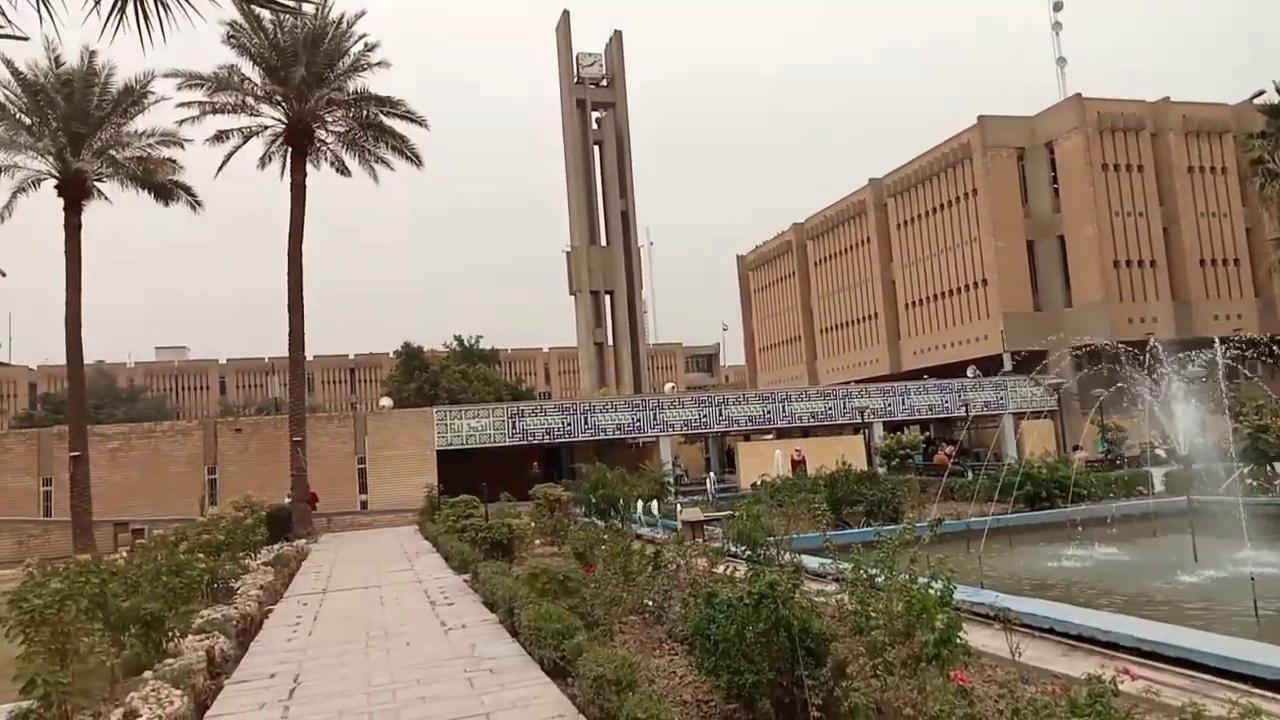car: (910, 451, 973, 479), (284, 489, 318, 511)
fountain: (733, 329, 1278, 681)
person: (789, 447, 808, 477), (1070, 443, 1089, 470), (672, 453, 688, 485), (378, 388, 394, 409), (724, 443, 735, 473), (529, 460, 542, 483)
tree: (165, 0, 431, 539), (0, 31, 203, 554), (0, 0, 316, 54), (384, 332, 536, 407), (1236, 77, 1279, 277)
